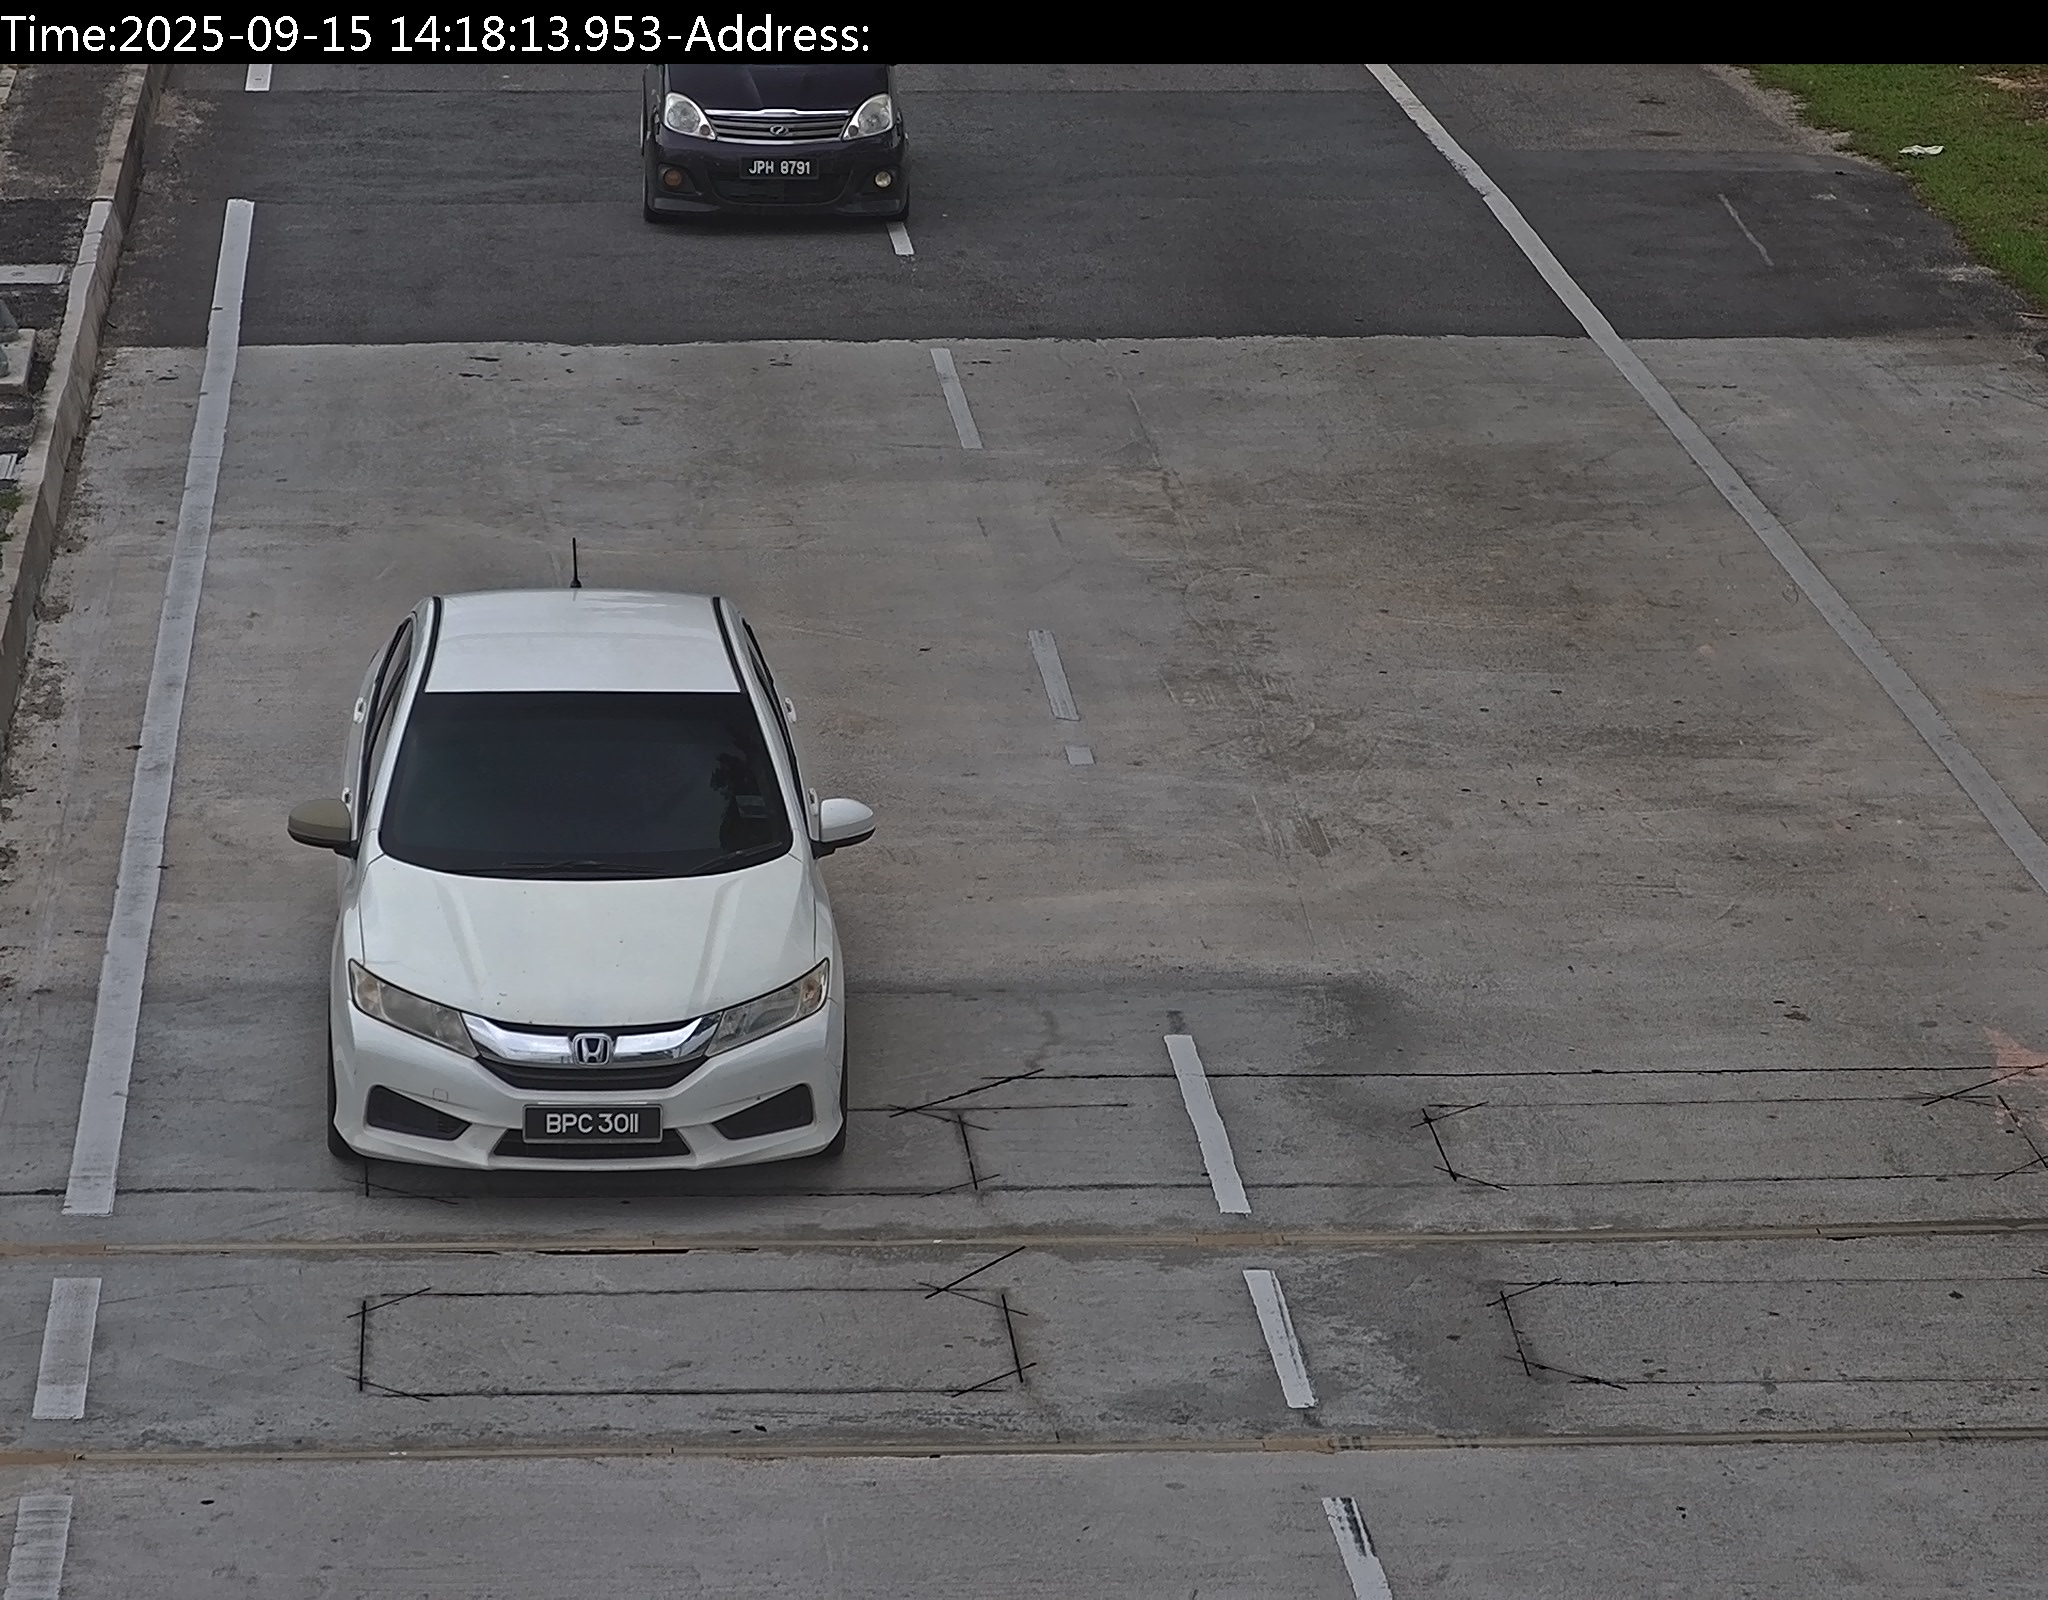class1_lightVehicle: (325, 591, 859, 1157)
license_plate: (540, 1104, 644, 1138), (743, 159, 817, 177)
